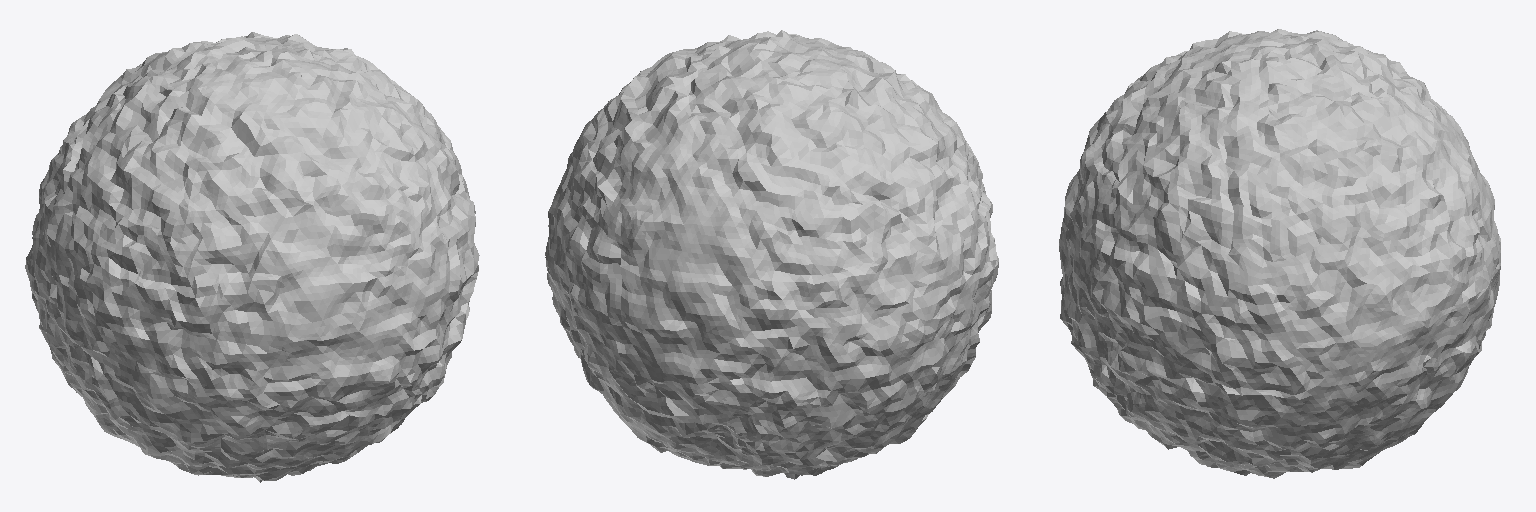
Rendered from asteroid.obj.
3 views of the same model, side by side, from view 1: azimuth 30°, elevation 25°; view 2: azimuth 150°, elevation 25°; view 3: azimuth 270°, elevation 25° (orthographic).
Parts seen in each view (by area): view 1: Icosphere; view 2: Icosphere; view 3: Icosphere.
Part boxes in pixels (x1,y1,x2,y2): Icosphere: (25,32,479,482); Icosphere: (545,30,998,479); Icosphere: (1059,29,1500,478).
Size of the model in its own units: 2.06 by 2.03 by 2.